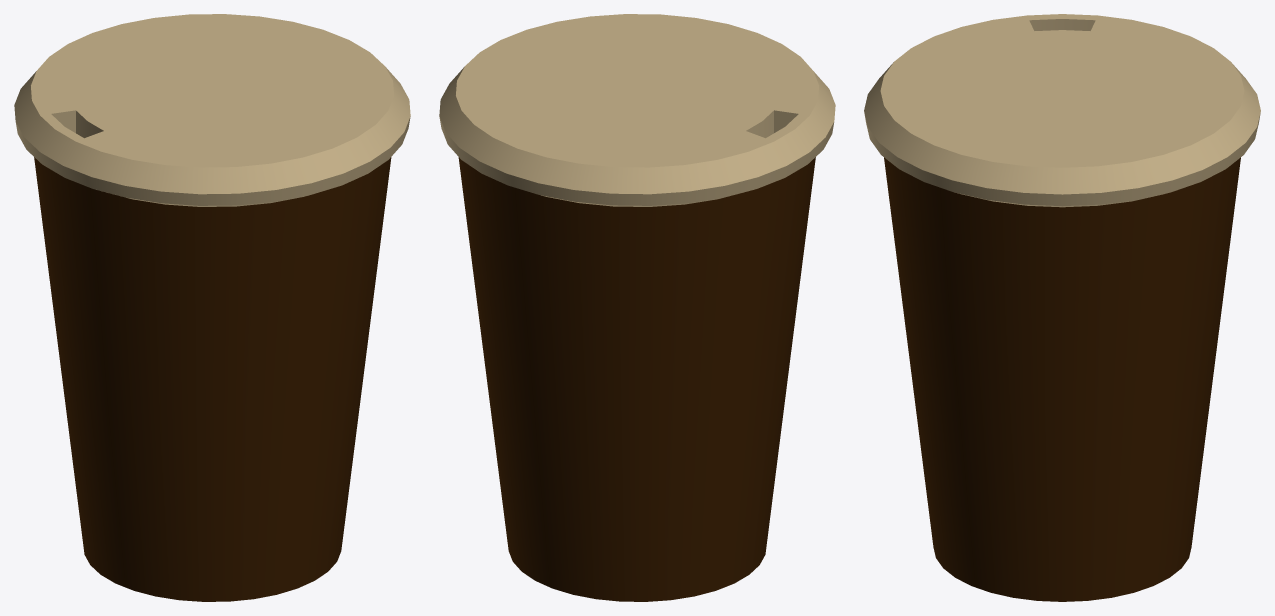
Rendered from Coffee.fbx.
The picture shows the model from 3 angles, left to right: view 1: azimuth 30°, elevation 25°; view 2: azimuth 150°, elevation 25°; view 3: azimuth 270°, elevation 25°; orthographic projection.
Visible parts, largest first — view 1: CoffeeCup, CoffeeLid; view 2: CoffeeCup, CoffeeLid; view 3: CoffeeCup, CoffeeLid.
Boxes of the visible parts, left/top/right/bottom form: CoffeeCup: left=34, top=157, right=391, bottom=601; CoffeeLid: left=14, top=14, right=410, bottom=206; CoffeeCup: left=458, top=157, right=815, bottom=601; CoffeeLid: left=439, top=14, right=835, bottom=206; CoffeeCup: left=884, top=157, right=1240, bottom=601; CoffeeLid: left=864, top=14, right=1260, bottom=207.
Bounding box in the file's own units: 387 × 491 × 387.
